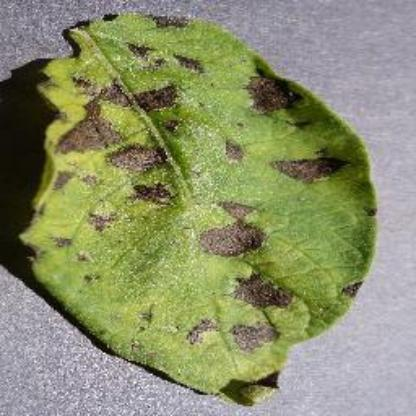Early-Blight: (19, 8, 380, 404)
